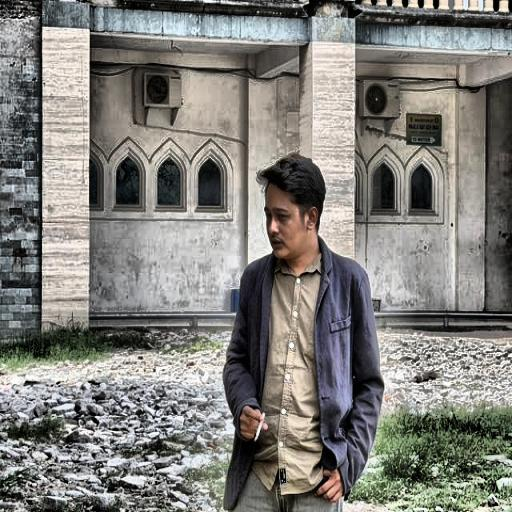Asbak: (254, 420, 265, 439)
